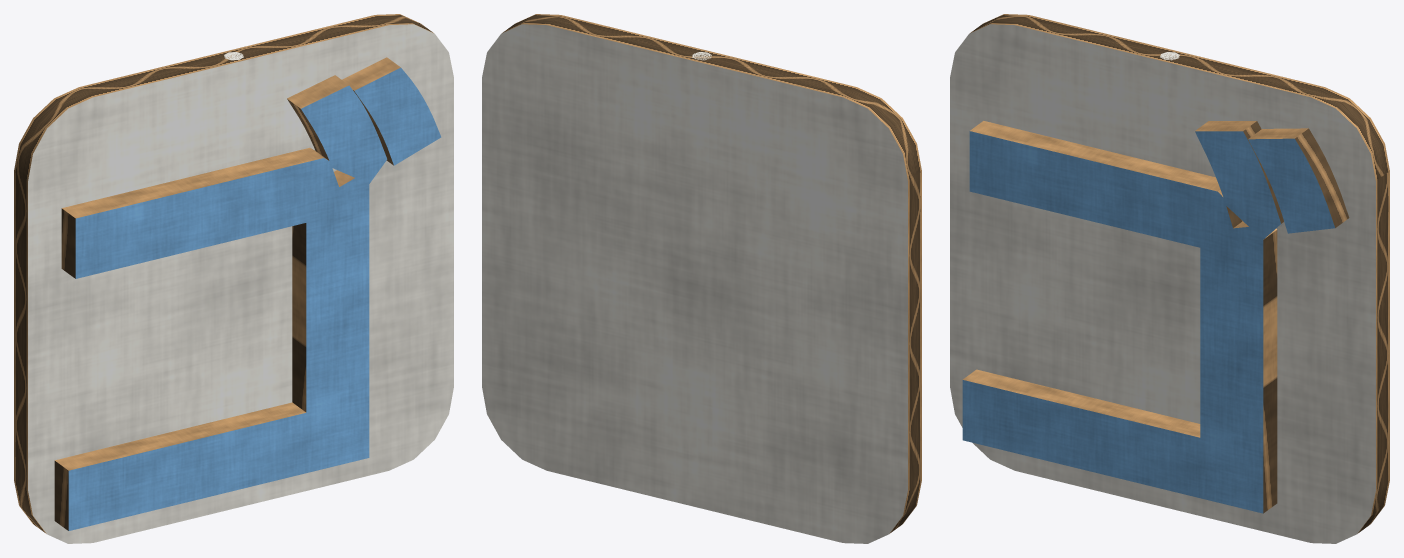
File: goal_letter_0.gltf
3 views of the same model, side by side, from view 1: azimuth 30°, elevation 25°; view 2: azimuth 150°, elevation 25°; view 3: azimuth 330°, elevation 25° (orthographic).
Parts seen in each view (by area): view 1: goal_letter_0; view 2: goal_letter_0; view 3: goal_letter_0.
Boxes of the visible parts, left/top/right/bottom form: goal_letter_0: left=14, top=14, right=453, bottom=543; goal_letter_0: left=482, top=14, right=921, bottom=543; goal_letter_0: left=950, top=14, right=1389, bottom=543.
Bounding box in the file's own units: 1.05 × 1.05 × 0.12.
Materials: 3 (3 with a texture image).
